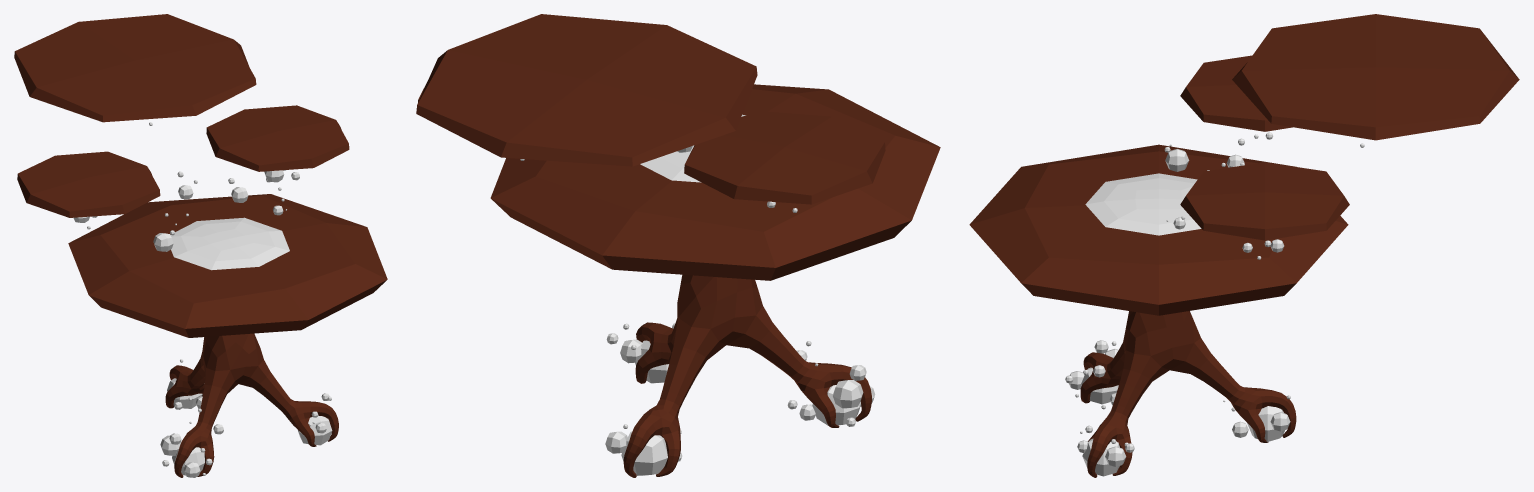
The model's file is AlchemyTable.fbx.
3 renders of one model, left to right at view 1: azimuth 30°, elevation 25°; view 2: azimuth 150°, elevation 25°; view 3: azimuth 270°, elevation 25°, orthographic. The views are drawn at different scales.
Visible parts, largest first — view 1: AlchemyTable; view 2: AlchemyTable; view 3: AlchemyTable.
Part boxes in pixels (box(x1,y1,x2,y2)): AlchemyTable: box(14, 14, 387, 477); AlchemyTable: box(416, 14, 940, 477); AlchemyTable: box(969, 14, 1519, 477).
Size of the model in its own units: 379 by 363 by 488.
